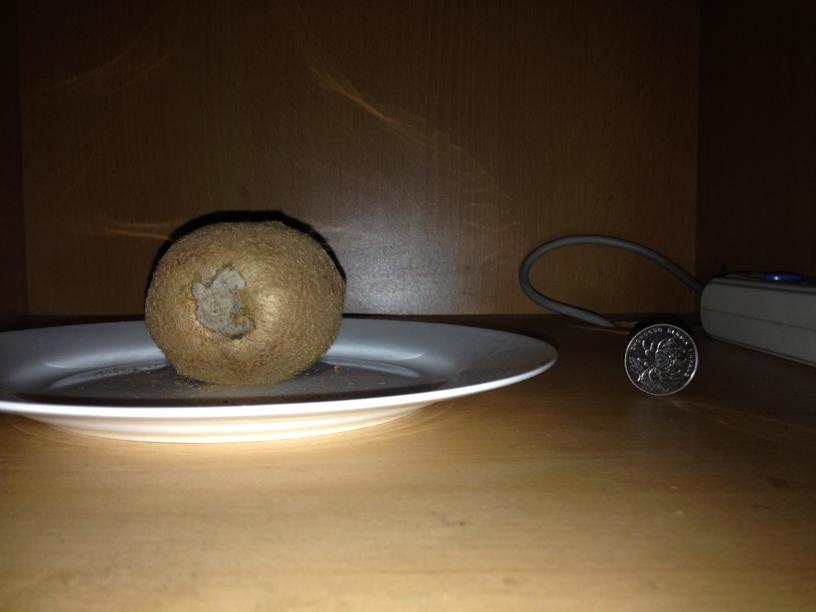coin: (624, 323, 697, 396)
qiwi: (139, 226, 347, 383)
